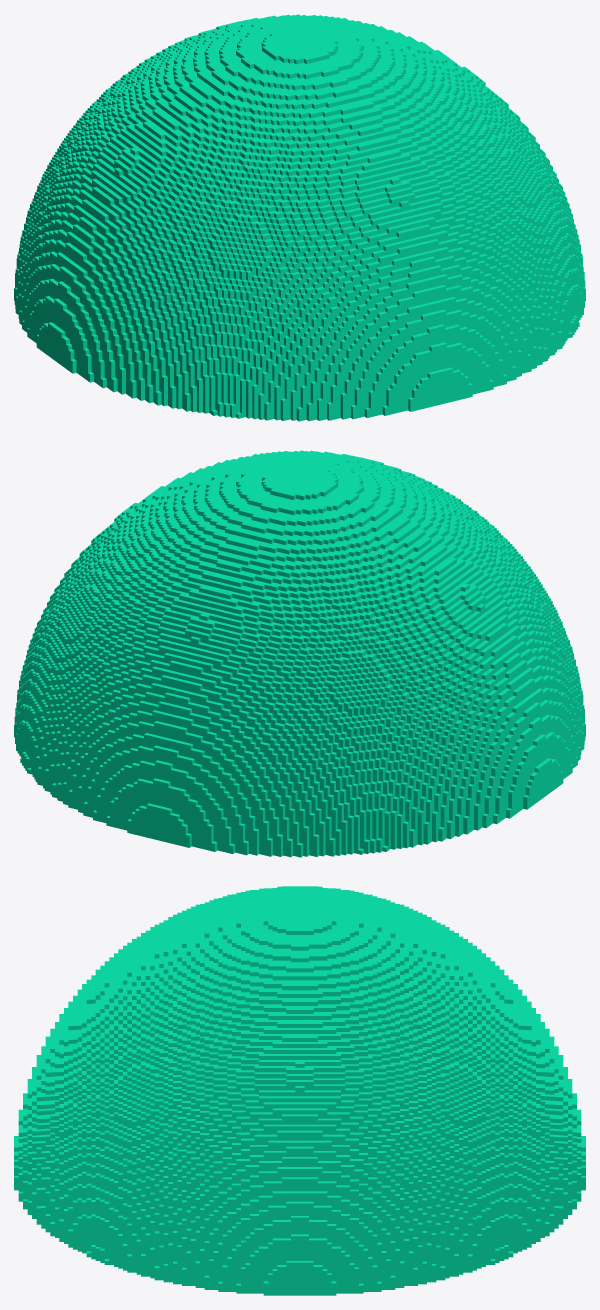
Rendered from ARENA-2.obj.
3 renders of one model, top to bottom at view 1: azimuth 30°, elevation 25°; view 2: azimuth 150°, elevation 25°; view 3: azimuth 270°, elevation 25°, orthographic.
Parts seen in each view (by area): view 1: ARENA-2; view 2: ARENA-2; view 3: ARENA-2.
Boxes of the visible parts, box(x1,y1,x2,y2) form: ARENA-2: box(14, 14, 585, 421); ARENA-2: box(14, 450, 585, 857); ARENA-2: box(14, 886, 585, 1295).
Bounding box in the file's own units: 126 × 63 × 126.
1 material, 1 textured.
